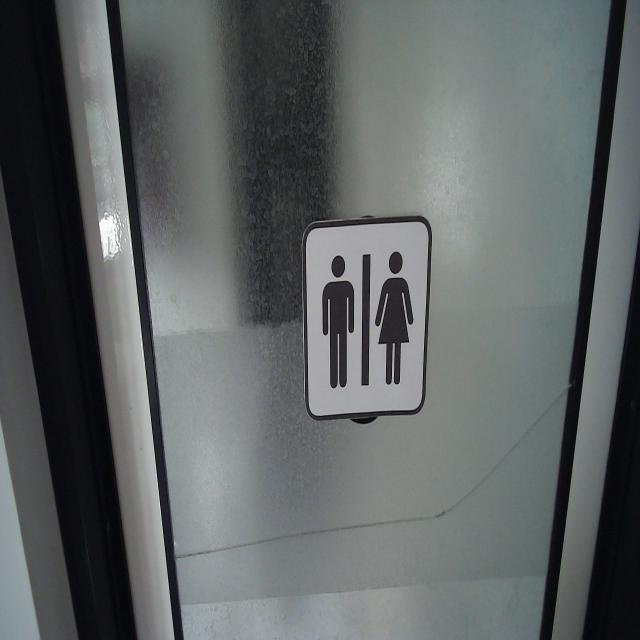restroom: (300, 211, 434, 425)
